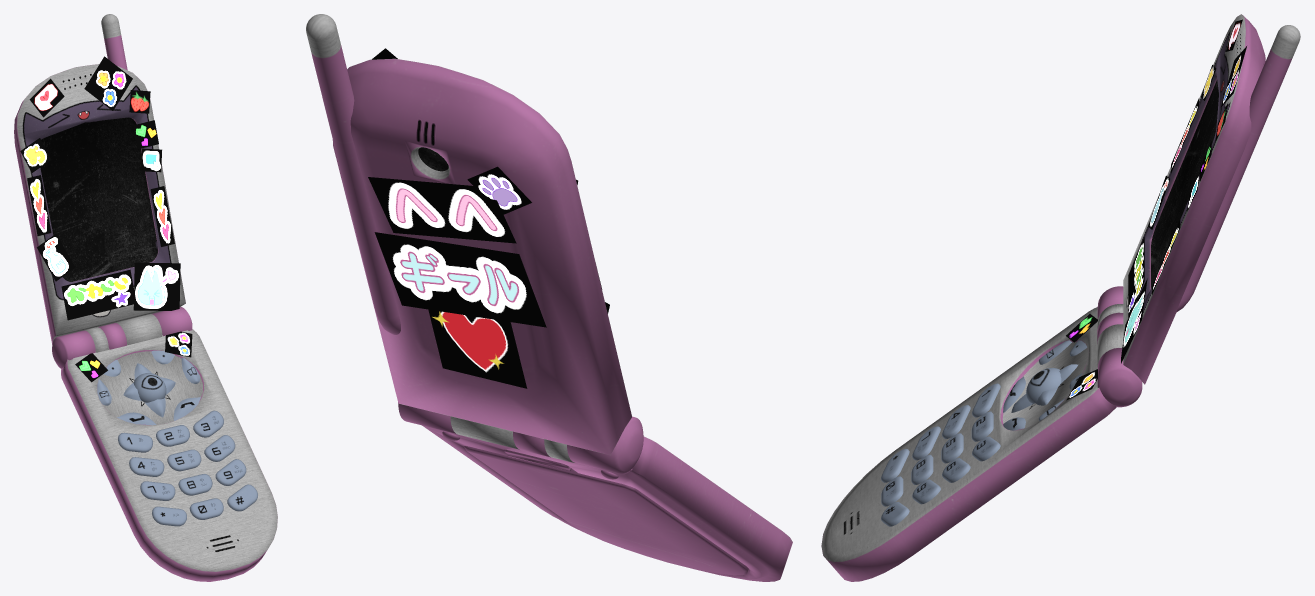
The model's file is cute_flip_phone.glb.
3 views of the same model, side by side, from view 1: azimuth 30°, elevation 25°; view 2: azimuth 150°, elevation 25°; view 3: azimuth 270°, elevation 25° (orthographic). The views are drawn at different scales.
Parts seen in each view (by area): view 1: bottomPhone_low, antenna_low, Plane.012, Plane.011, Plane.005, Plane.013, Plane.009, Plane.010, Plane.004, Plane.014, Plane.016, Plane.007 (+3 smaller); view 2: antenna_low, bottomPhone_low, Plane, Plane.001, Plane.002, Plane.003; view 3: bottomPhone_low, antenna_low, Plane.012, Plane.011.
Part boxes in pixels (box(x1,y1,x2,y2)): bottomPhone_low: box(52, 307, 277, 581); antenna_low: box(14, 14, 185, 344); Plane.012: box(61, 269, 136, 320); Plane.011: box(133, 262, 180, 310); Plane.005: box(84, 56, 132, 110); Plane.013: box(37, 234, 74, 281); Plane.009: box(27, 175, 51, 235); Plane.010: box(150, 186, 174, 246); Plane.004: box(29, 78, 64, 117); Plane.014: box(20, 138, 51, 172); Plane.016: box(165, 331, 192, 357); Plane.007: box(133, 120, 158, 149); antenna_low: box(306, 14, 631, 455); bottomPhone_low: box(398, 402, 792, 581); Plane: box(374, 232, 546, 327); Plane.001: box(368, 177, 516, 243); Plane.002: box(428, 309, 527, 388); Plane.003: box(467, 166, 531, 214); bottomPhone_low: box(821, 286, 1142, 581); antenna_low: box(1123, 14, 1300, 384); Plane.012: box(1128, 237, 1144, 319); Plane.011: box(1121, 278, 1147, 363).
Size of the model in its own units: 1.75 by 5.24 by 3.97.
Materials: 2 (2 with a texture image).
